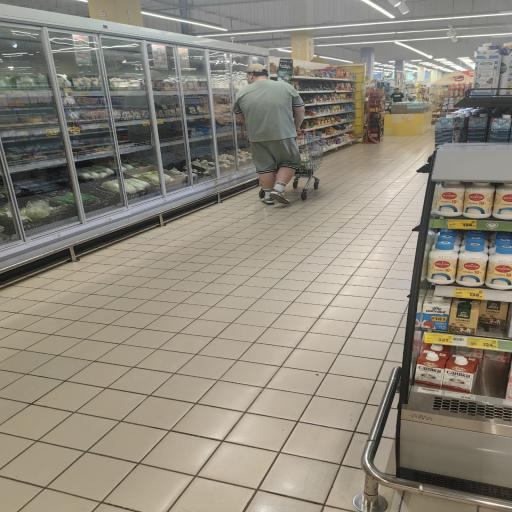shopping_cart: (292, 130, 324, 200)
